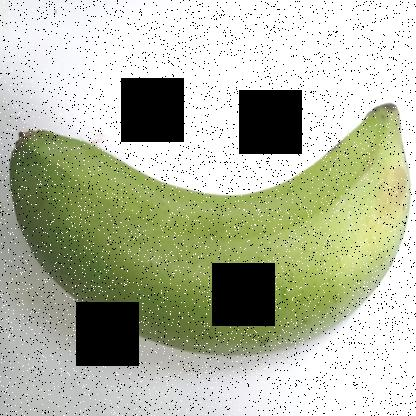freshunripe: (2, 84, 415, 367)
